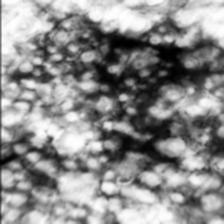Potentially Malignant Skin Tumors: (36, 18, 224, 196)
